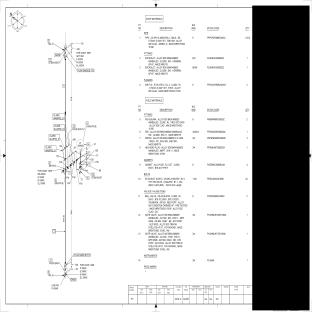flange: (64, 262, 67, 267), (64, 55, 67, 60)
valve: (63, 49, 67, 57), (64, 266, 68, 274)
